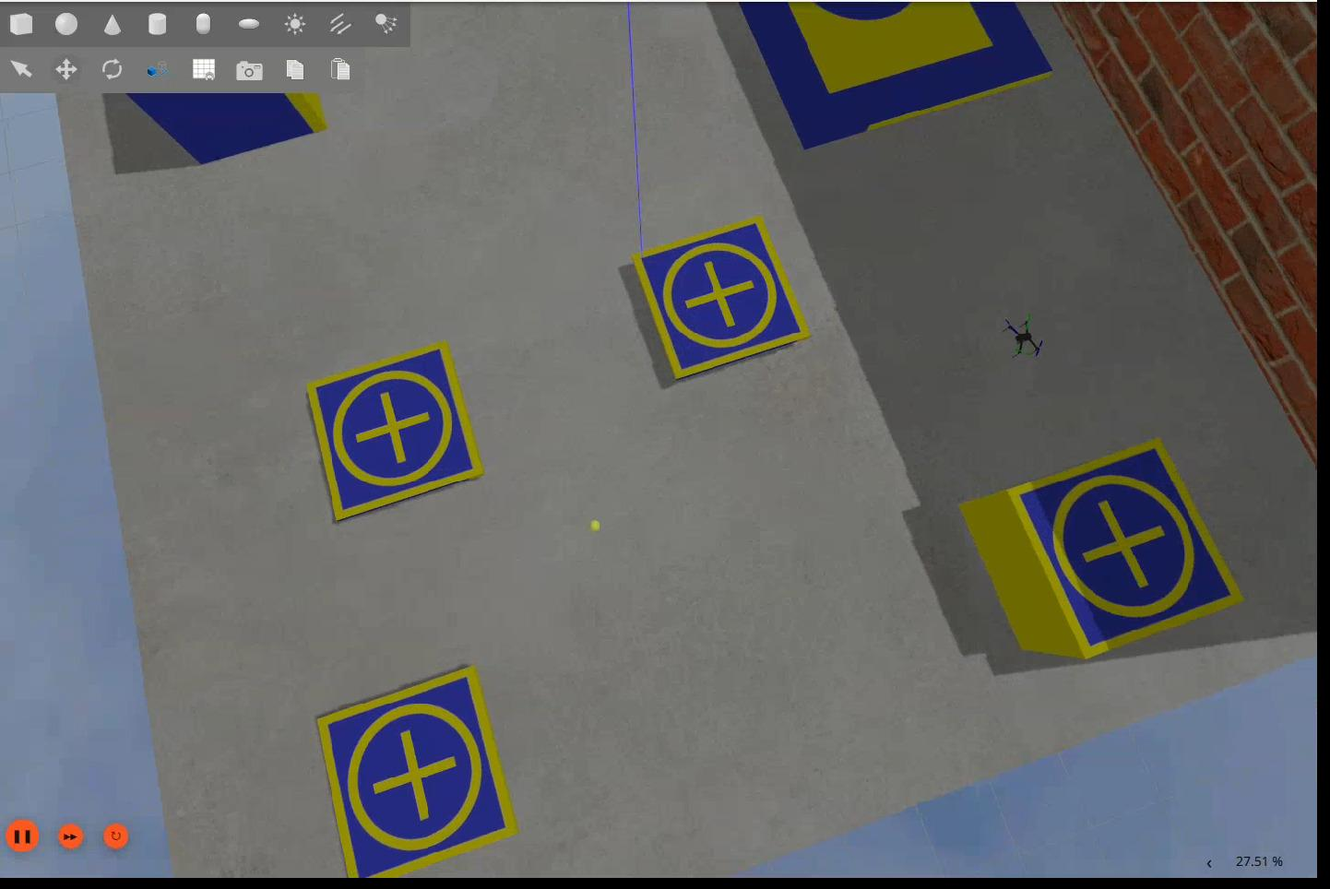large_base: (738, 1, 1059, 151)
small_base: (1009, 444, 1247, 657), (318, 666, 520, 878), (306, 342, 486, 524), (630, 220, 812, 382)
